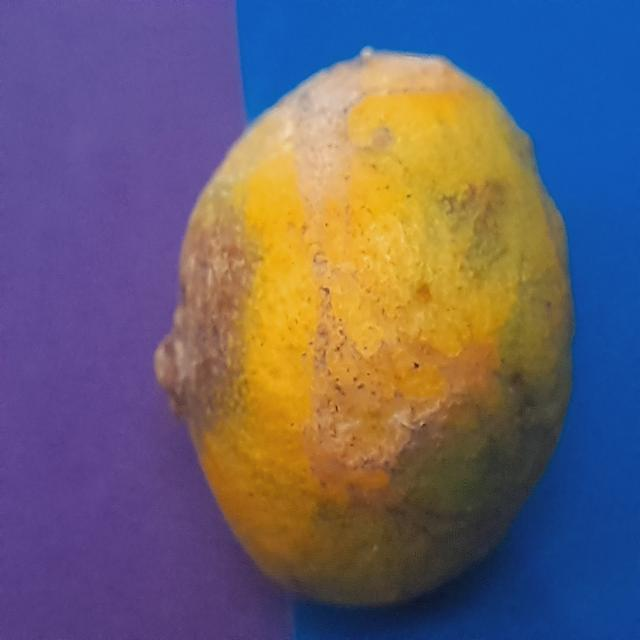thrips: (168, 34, 571, 595)
